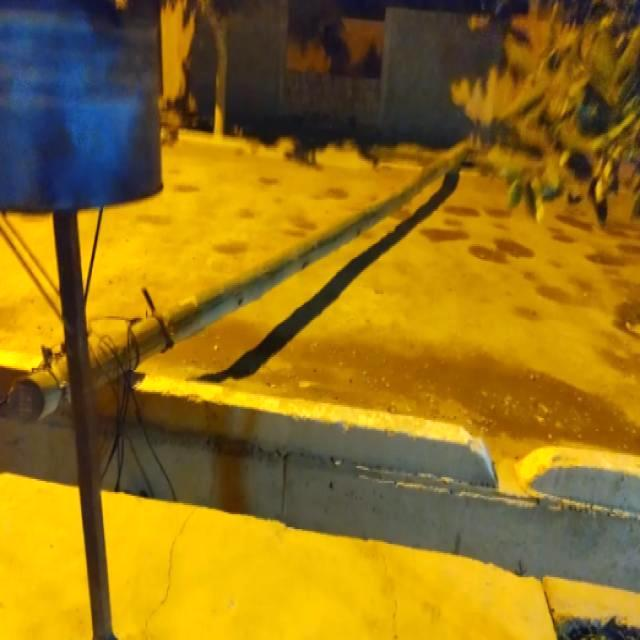Broken Pole: (7, 141, 475, 420)
